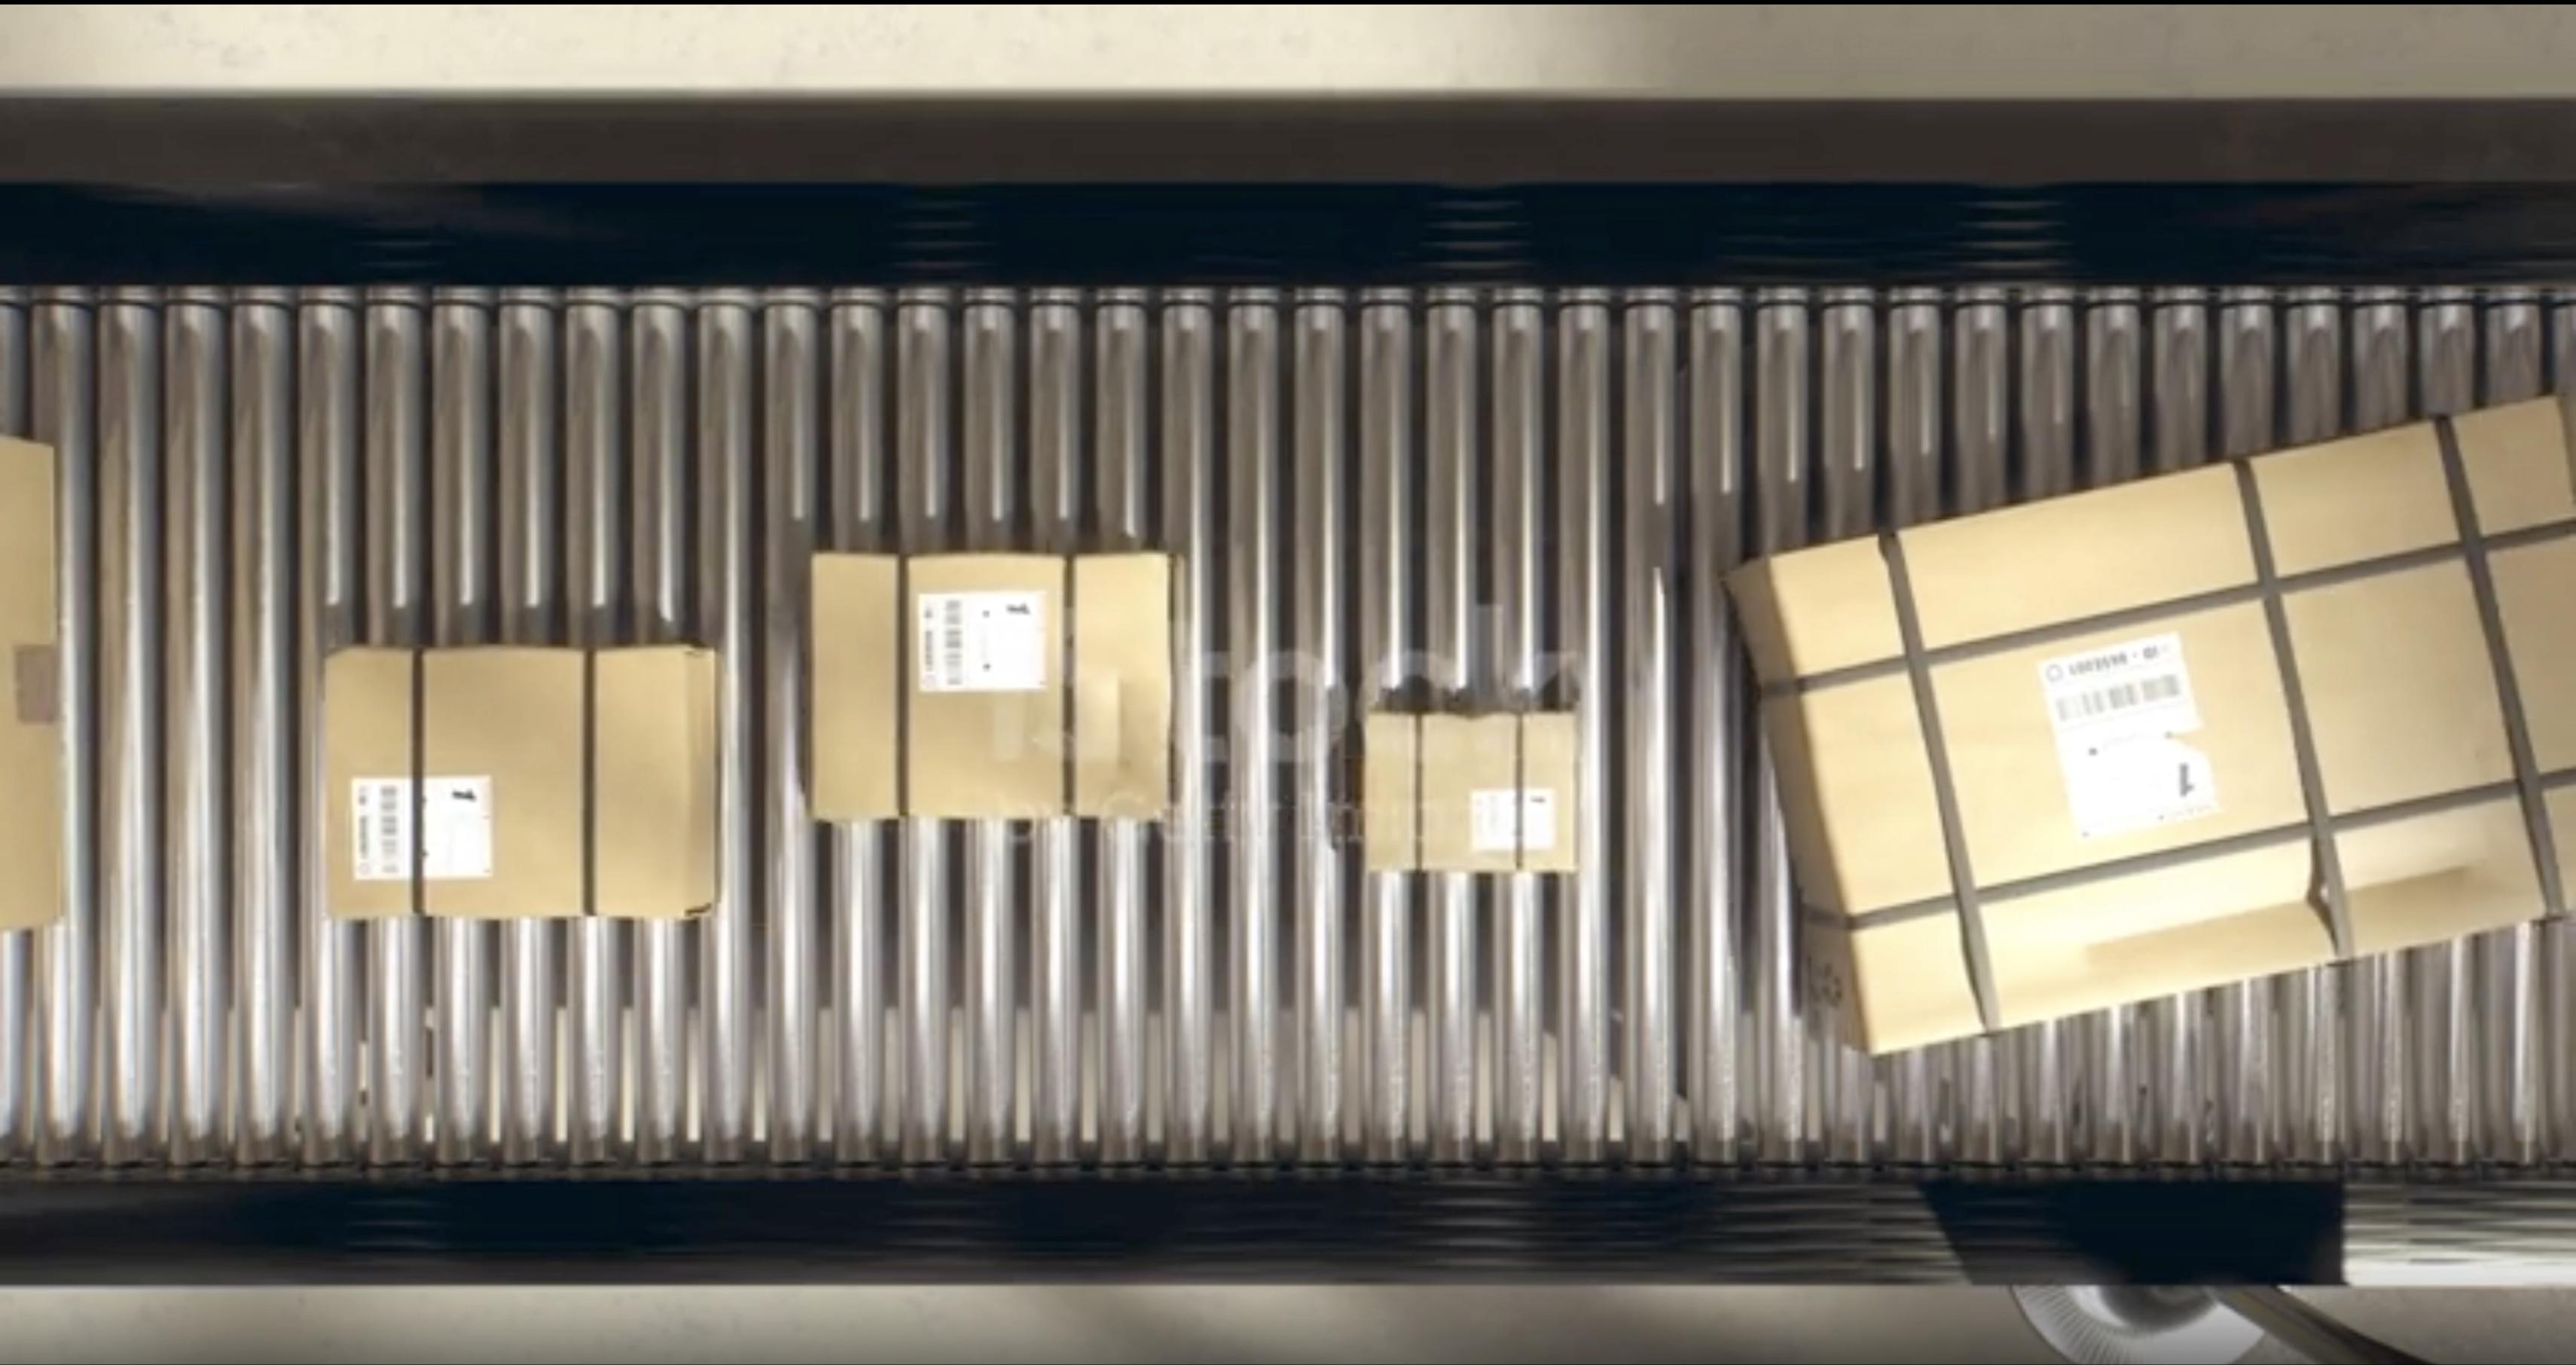Box: (1743, 438, 2576, 1022), (324, 646, 704, 915), (816, 557, 1172, 828), (1370, 712, 1567, 867)
